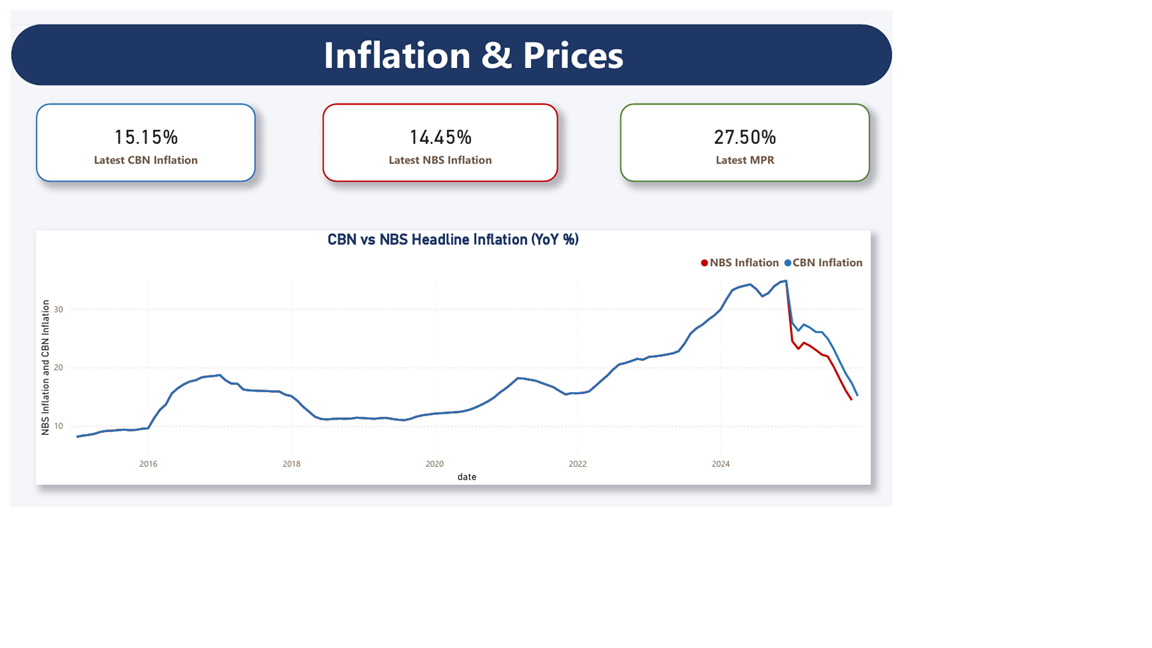

The page's visual inventory and layout, read from the dashboard file:
{"tool":"powerbi","page":{"name":"Inflation & Prices","canvas":[1280,720],"ordinal":1},"visuals":[{"type":"card","fields":{"Values":["cbn_inflation_clean.Latest CBN Inflation"]},"box":[35.9,134.2,319.4,113.4],"z":0},{"type":"card","fields":{"Values":["nbs_cpi_clean.Latest NBS Inflation"]},"box":[451.7,134.2,342,113.4],"z":1000},{"type":"card","fields":{"Values":["cbn_mpr_clean.Latest MPR"]},"box":[884.4,134.2,362.8,113.4],"z":2000},{"type":"lineChart","title":"CBN vs NBS Headline Inflation (YoY %)","fields":{"Category":["cbn_inflation_clean.date"],"Y":["Sum(nbs_cpi_clean.inflation_yoy)","Sum(cbn_inflation_clean.headline_inflation_yoy)"]},"box":[35.9,319.4,1211.3,368.5],"z":3000},{"type":"shape","box":[0,18.9,1279.4,88.8],"z":4000},{"type":"textbox","box":[100.2,18.9,1128.2,88.8],"z":5000}]}

Visuals, with their boxes in screenshot pixels (x1, y1, x2, y2), scaled from the page's 1280x720 canvas onto the 1152x648 screenshot:
card - cbn_inflation_clean.Latest CBN Inflation: bbox=[32, 121, 320, 223]
card - nbs_cpi_clean.Latest NBS Inflation: bbox=[407, 121, 714, 223]
card - cbn_mpr_clean.Latest MPR: bbox=[796, 121, 1122, 223]
"CBN vs NBS Headline Inflation (YoY %)" lineChart: bbox=[32, 287, 1122, 619]
shape: bbox=[0, 17, 1151, 97]
textbox: bbox=[90, 17, 1106, 97]
